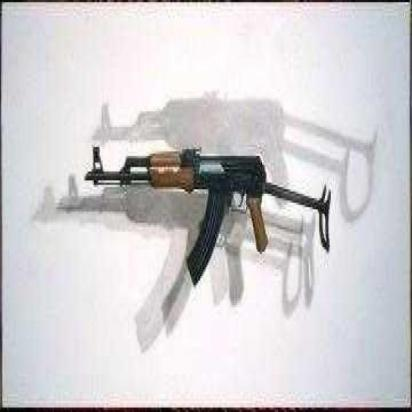Gun: (68, 131, 336, 308)
